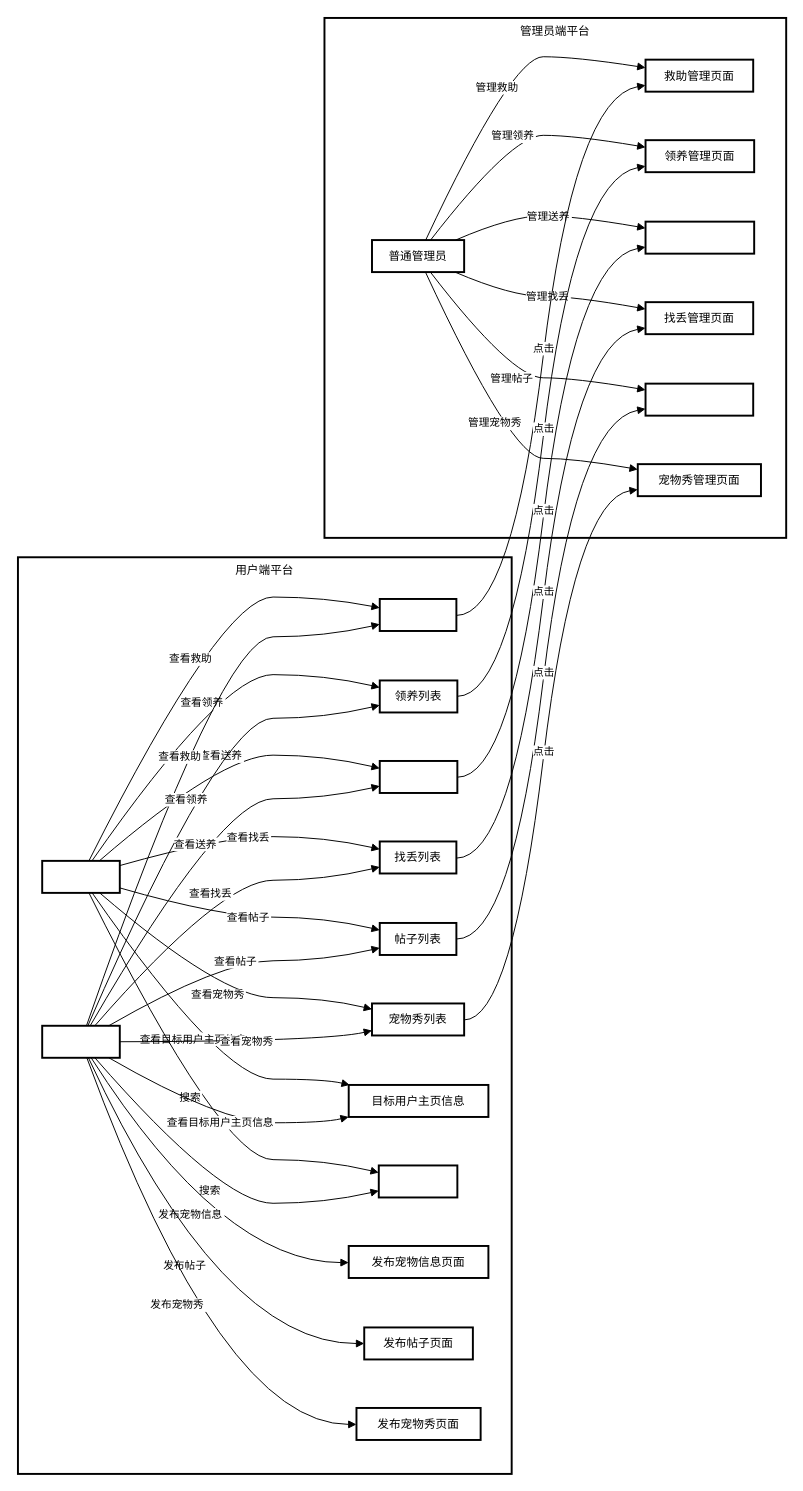
Image size: 803x1491. Some labels were removed from this diagram. Each missing label, with the centre of its shape:
"帖子管理页面" goes at (699,399).
"搜索结果" goes at (417,1181).
"救助列表" goes at (417,614).
"普通游客" goes at (80,876).
"登录用户" goes at (80,1041).
"送养列表" goes at (418,776).
"送养管理页面" goes at (699,237).
